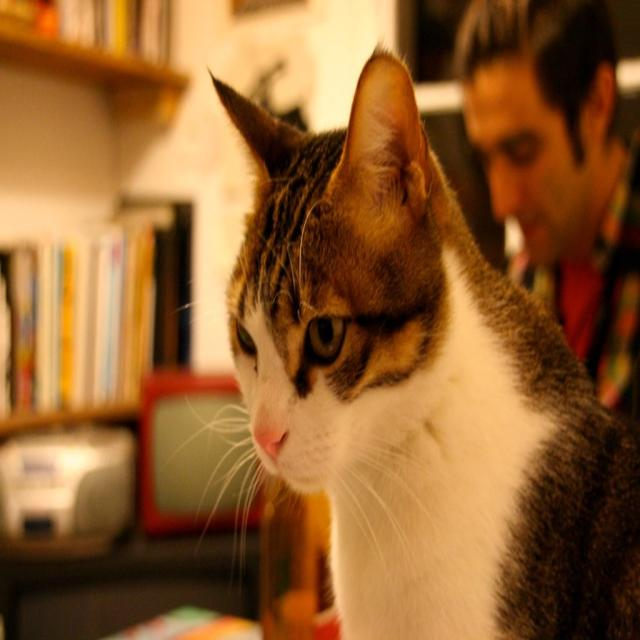Cat: (158, 31, 638, 638)
